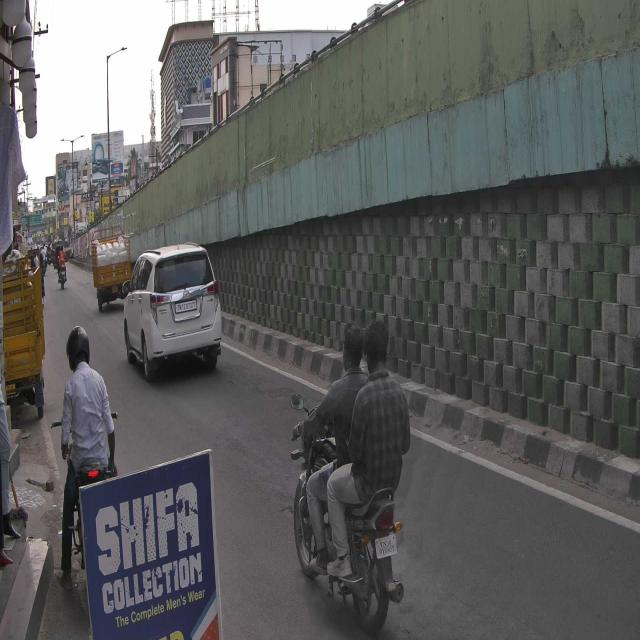double_rider: (288, 313, 412, 625)
